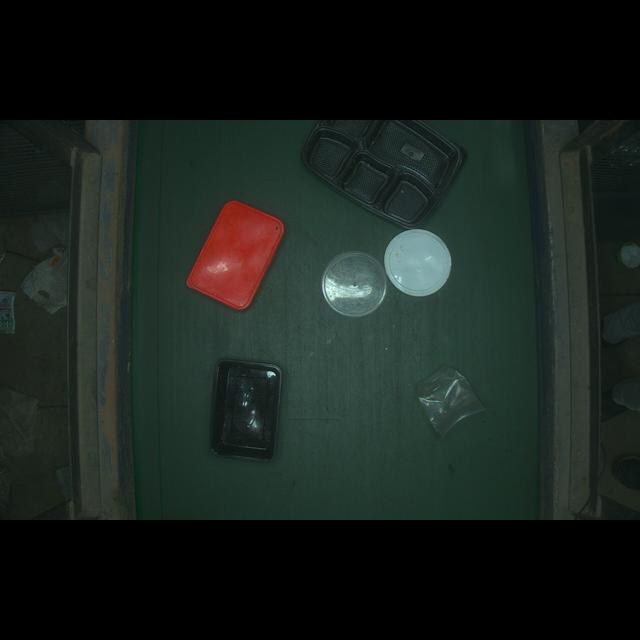mix rigid: (185, 185, 287, 324), (204, 349, 299, 473), (409, 365, 499, 438), (385, 224, 468, 300), (323, 244, 387, 320)
